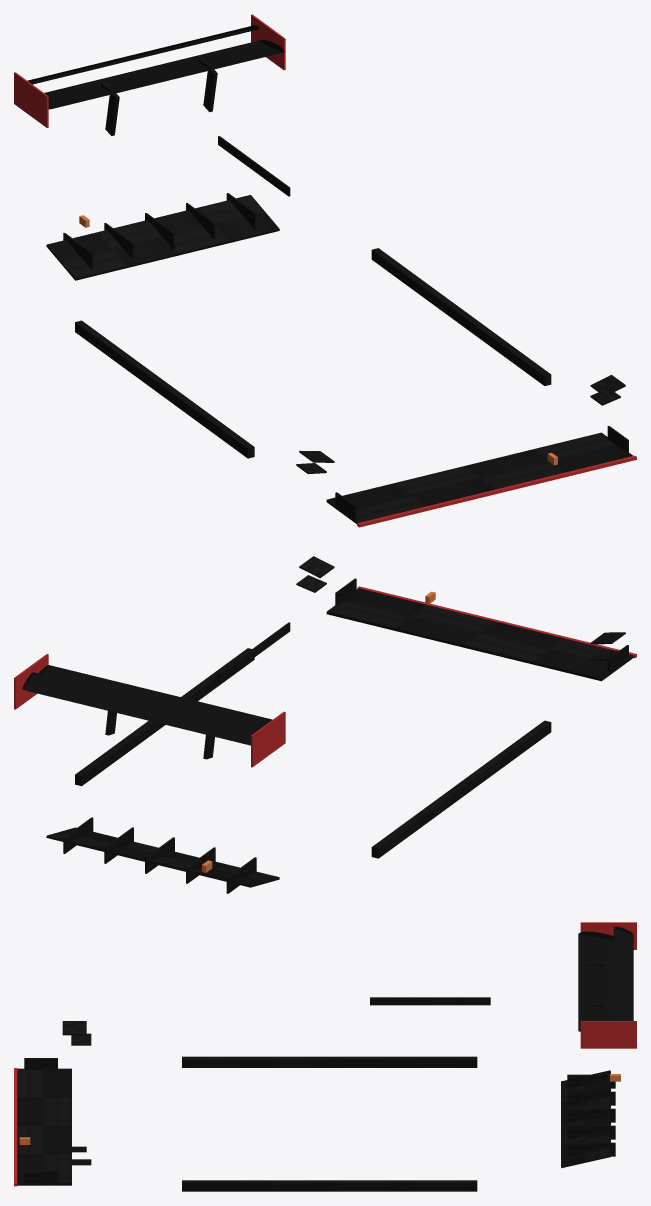
The model's file is aero_7.glb.
The picture shows the model from 3 angles, top to bottom: view 1: azimuth 30°, elevation 25°; view 2: azimuth 150°, elevation 25°; view 3: azimuth 270°, elevation 25°; orthographic projection. The views are drawn at different scales.
Visible parts, largest first — view 1: carbon, accent; view 2: carbon, accent; view 3: carbon, accent.
Part boxes in pixels (x1,y1,x2,y2): carbon: [27, 25, 632, 524]; accent: [14, 14, 636, 527]; carbon: [22, 556, 633, 893]; accent: [14, 586, 636, 767]; carbon: [17, 926, 633, 1191]; accent: [14, 922, 636, 1186].
Size of the model in its own units: 2.3 by 1.28 by 4.64.
Materials: 3 (1 with a texture image).
